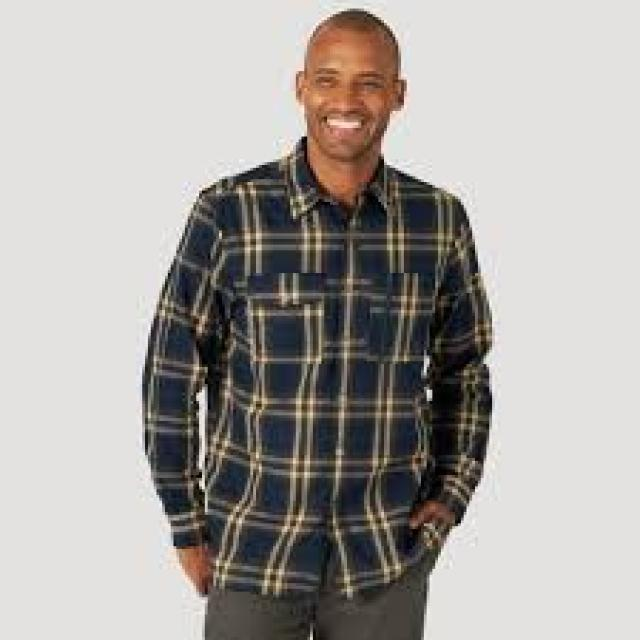plaid: (140, 140, 495, 590)
